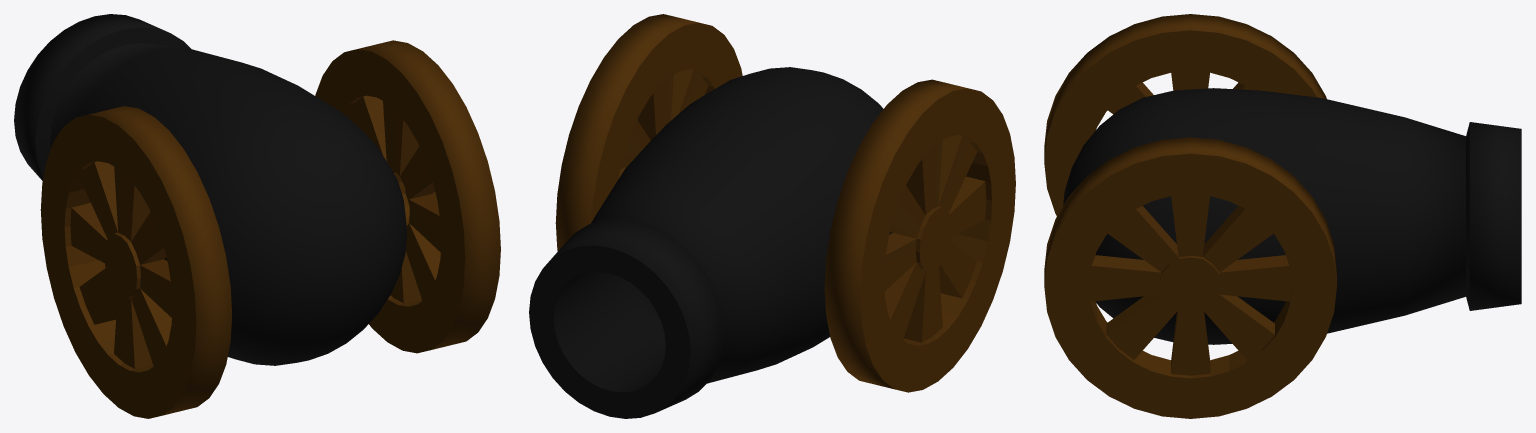
File: gullemakinesi.fbx
3 views of the same model, side by side, from view 1: azimuth 30°, elevation 25°; view 2: azimuth 150°, elevation 25°; view 3: azimuth 270°, elevation 25° (orthographic). The views are drawn at different scales.
Parts seen in each view (by area): view 1: Cannon.001; view 2: Cannon.001; view 3: Cannon.001.
Boxes of the visible parts, x1,y1,x2,y2 form: Cannon.001: [14, 14, 500, 418]; Cannon.001: [529, 14, 1015, 418]; Cannon.001: [1044, 14, 1521, 418].
Size of the model in its own units: 257 by 228 by 372.
